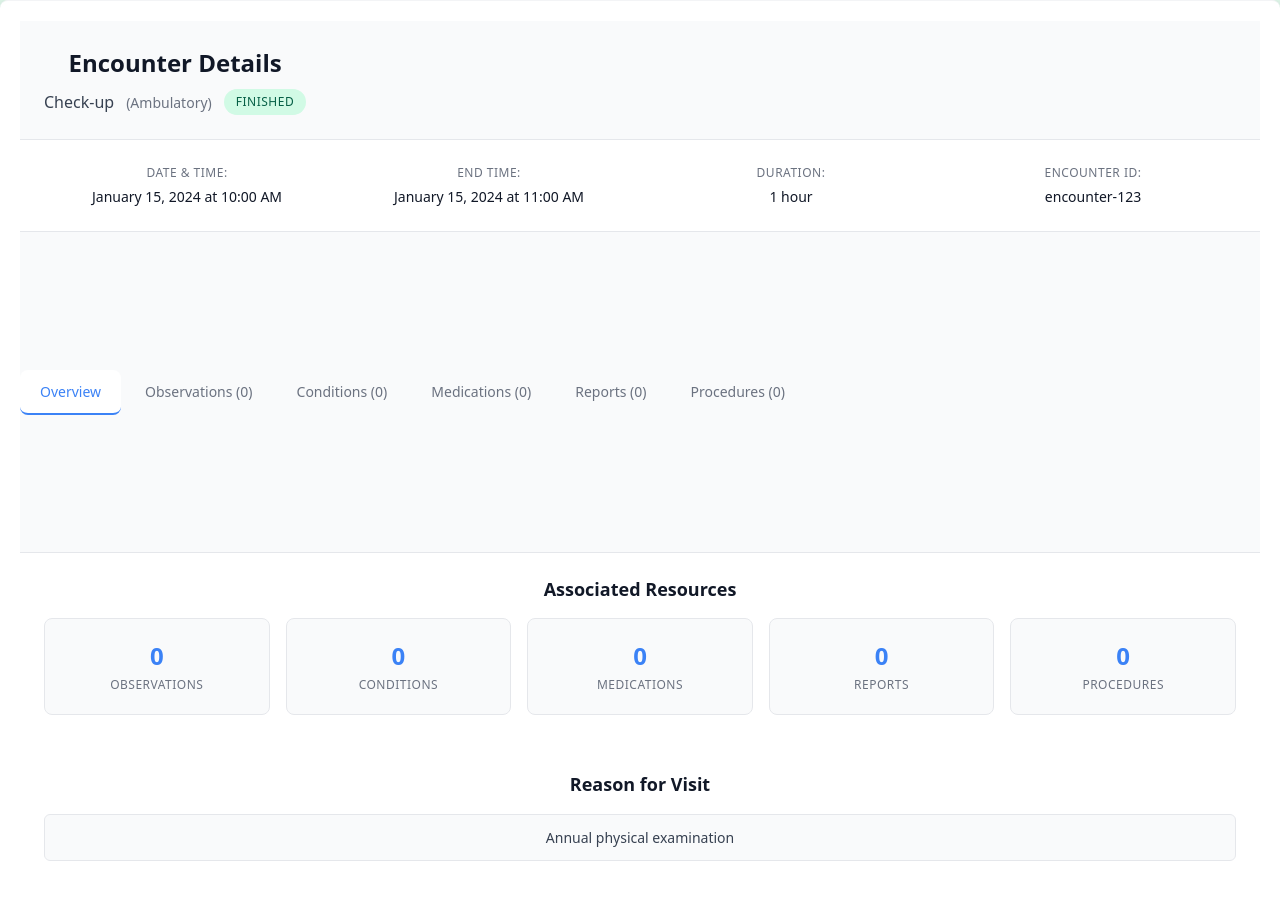
EncounterDetails › displays empty state when no resources are found
// Click on observations tab
Click the button "Observations (0)" at (199, 392), box x1=125 y1=370 x2=273 y2=414
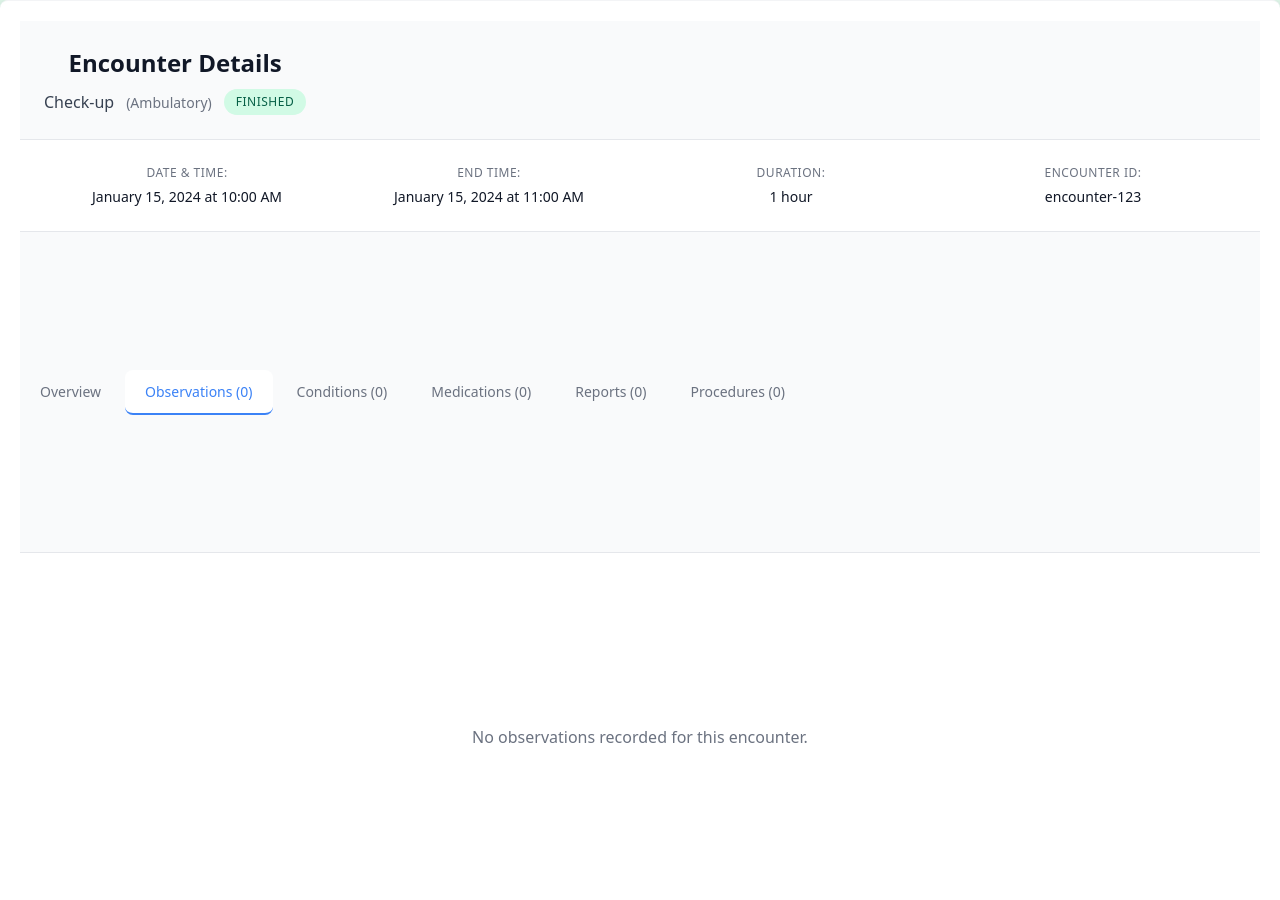
Result: the text "No observations recorded for this encounter." is shown at x1=472 y1=725 x2=808 y2=749
